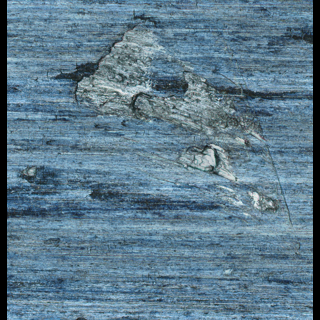d: (52, 12, 280, 220), (17, 163, 51, 187)
